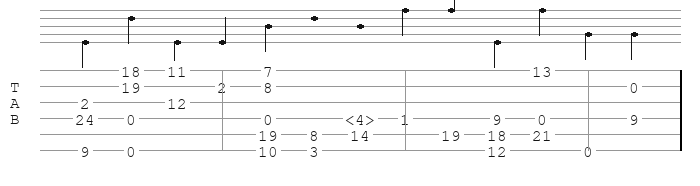0: (126, 111, 140, 125), (126, 143, 140, 157), (263, 111, 277, 125), (537, 111, 551, 125), (583, 143, 597, 157), (629, 79, 643, 93)
1: (400, 111, 414, 125)
10: (258, 143, 282, 157)
11: (167, 63, 191, 77)
12: (167, 95, 191, 109), (487, 143, 511, 157)
13: (532, 63, 556, 77)
14: (350, 127, 374, 141)
18: (121, 63, 145, 77), (487, 127, 511, 141)
19: (121, 79, 145, 93), (258, 127, 282, 141), (441, 127, 465, 141)
2: (80, 95, 94, 109), (217, 79, 231, 93)
21: (532, 127, 556, 141)
24: (75, 111, 99, 125)
3: (309, 143, 323, 157)
7: (263, 63, 277, 77)
8: (263, 79, 277, 93), (309, 127, 323, 141)
9: (80, 143, 94, 157), (492, 111, 506, 125), (629, 111, 643, 125)
harmonic: (345, 111, 379, 126)
